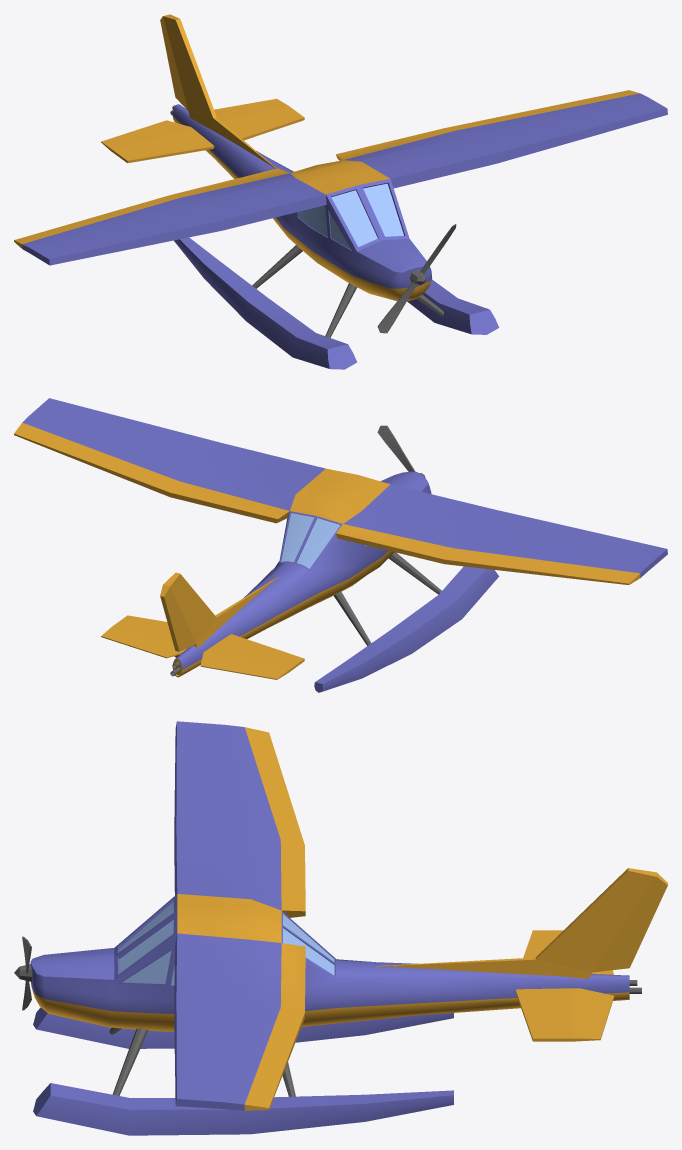
The model's file is avion.fbx.
3 renders of one model, top to bottom at view 1: azimuth 30°, elevation 25°; view 2: azimuth 150°, elevation 25°; view 3: azimuth 270°, elevation 25°, orthographic. The views are drawn at different scales.
Visible parts, largest first — view 1: Plane_Edit; view 2: Plane_Edit; view 3: Plane_Edit.
Part boxes in pixels (x1,y1,x2,y2): Plane_Edit: (14, 14, 667, 369); Plane_Edit: (14, 398, 667, 692); Plane_Edit: (14, 721, 667, 1135).
Bounding box in the file's own units: 1893 × 510 × 1386.
